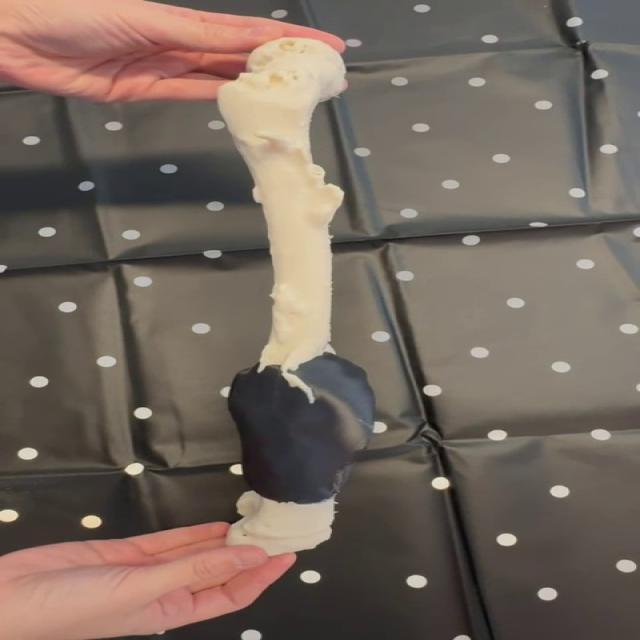bones: (218, 38, 374, 555)
